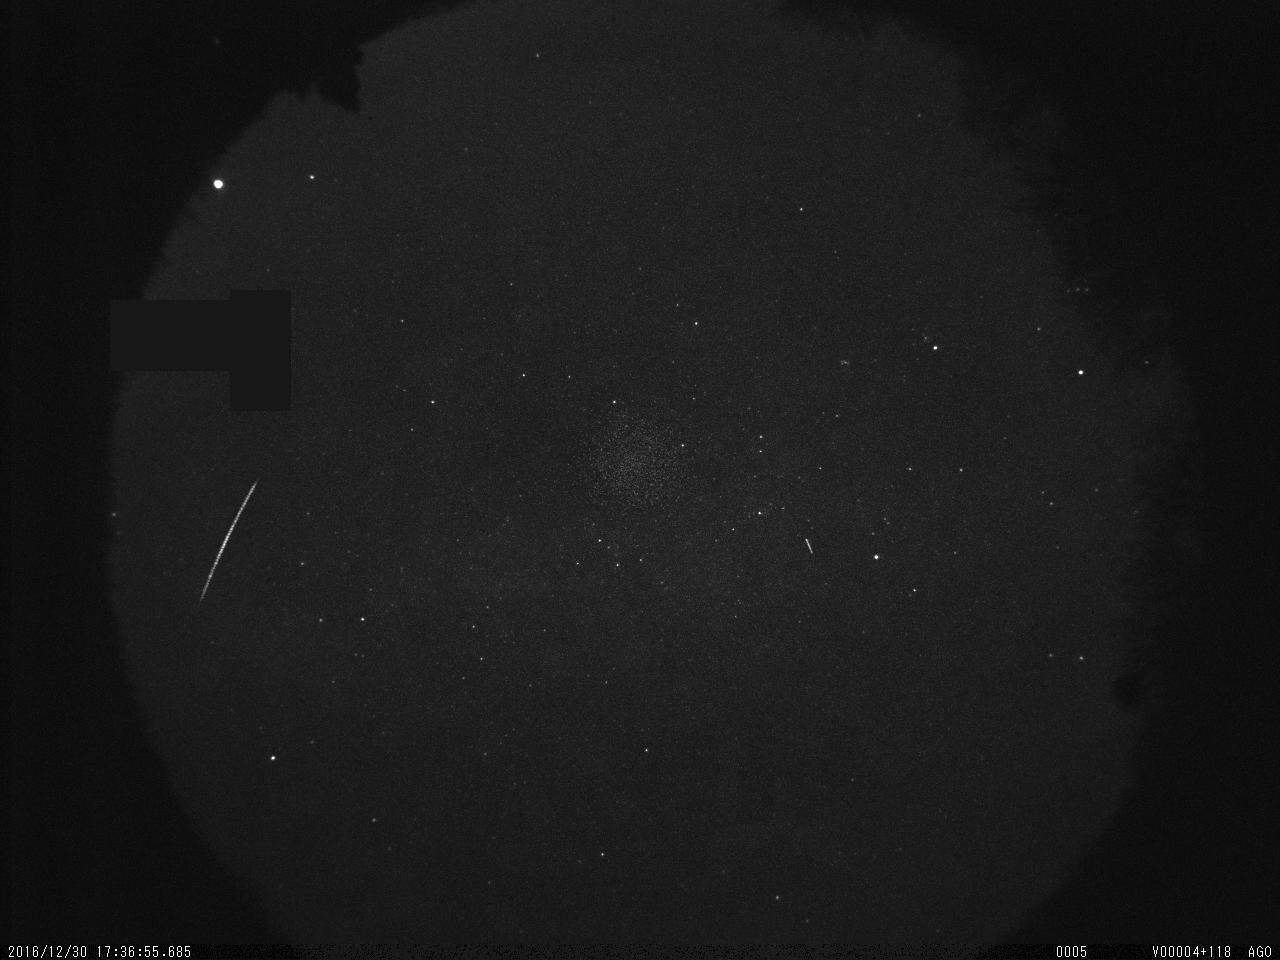Meteor: (193, 476, 261, 604), (802, 533, 815, 556)
